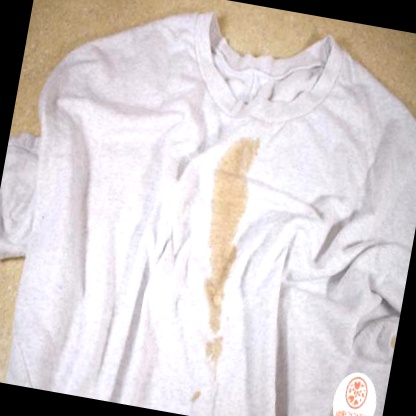coffee: (206, 137, 255, 250), (199, 248, 234, 327)
